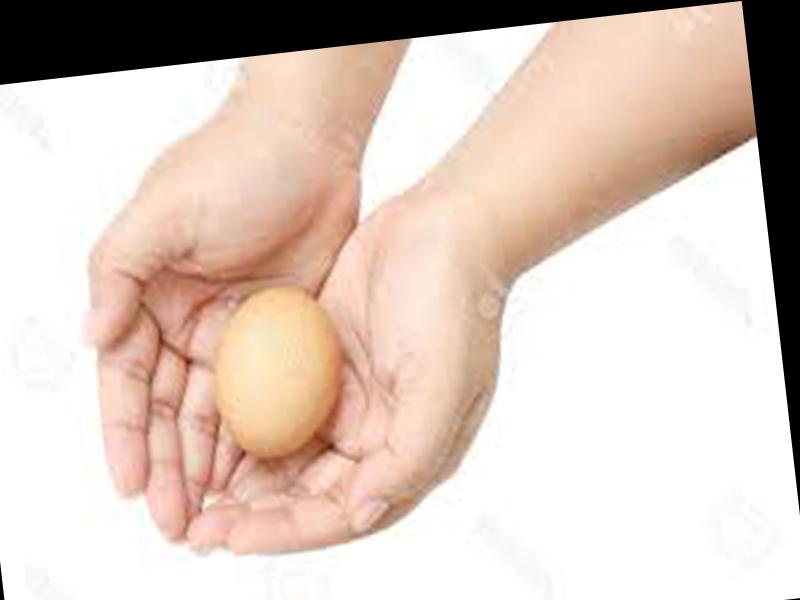Eggs: (207, 284, 350, 458)
